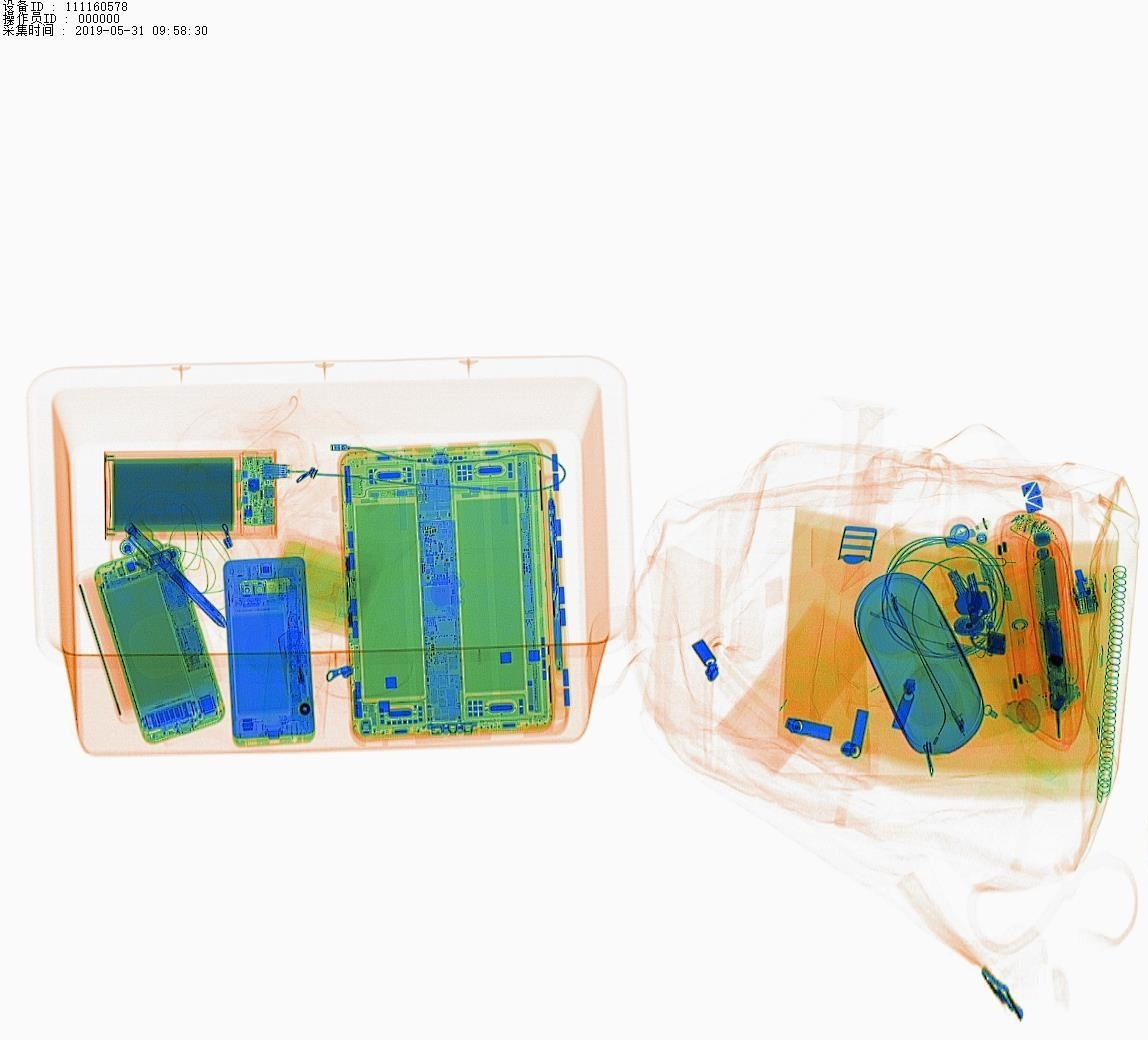NonmetallicFire: (273, 616, 337, 738)
